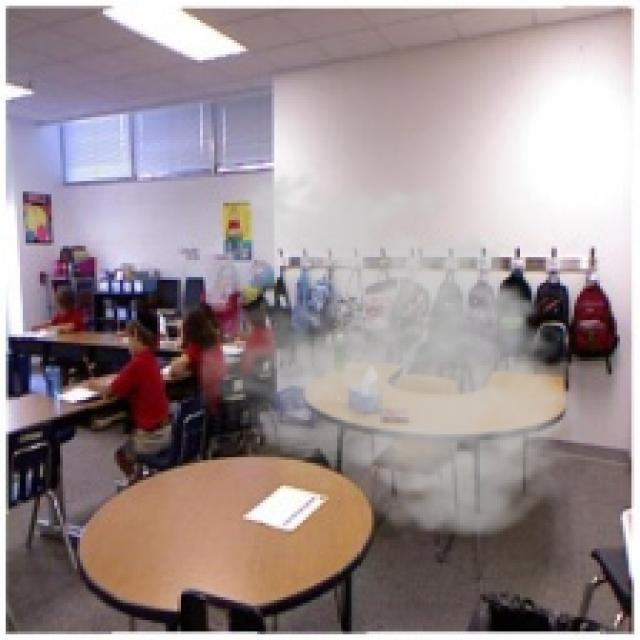Smoke: (197, 160, 592, 546)
